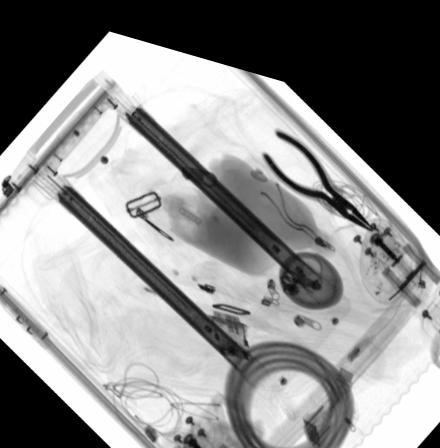Pliers: (260, 113, 374, 210)
